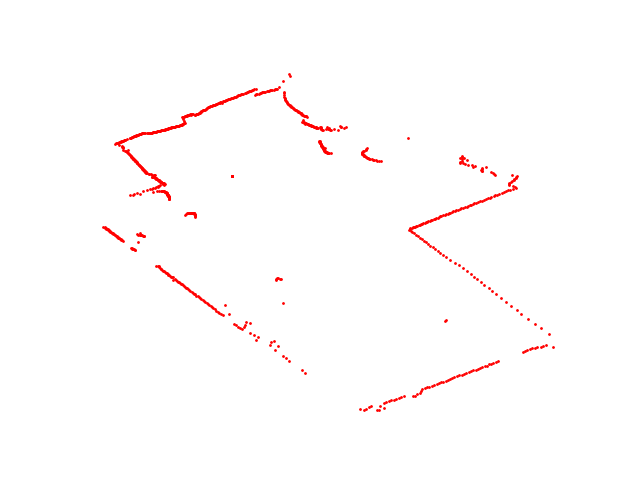person: (317, 138, 385, 165)
